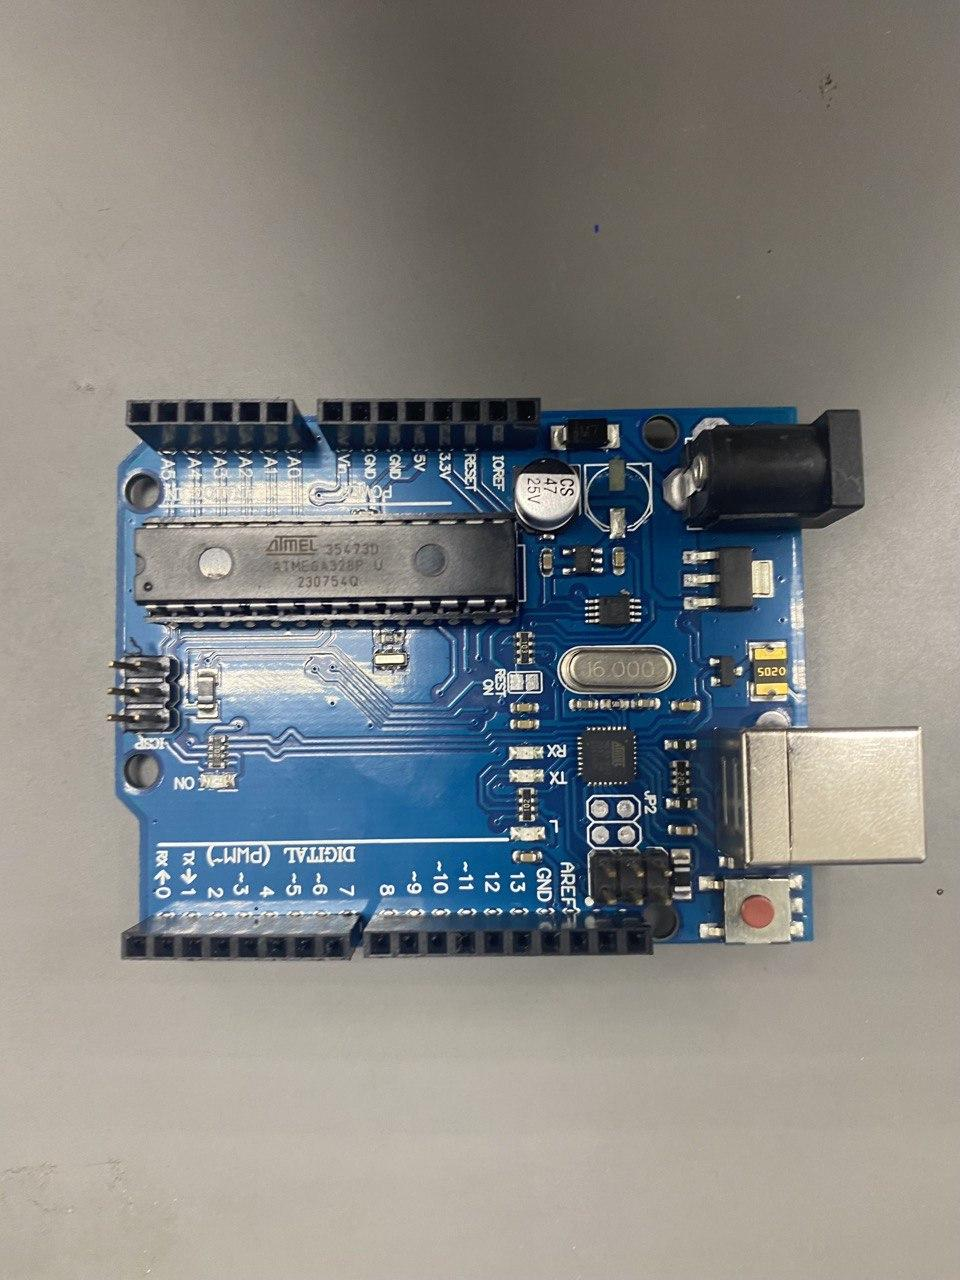ATmega328 chip: (133, 513, 517, 626)
Arduino board: (105, 397, 926, 962)
USB: (714, 725, 926, 869)
capacitor: (513, 457, 583, 532)
pins: (363, 911, 654, 958), (317, 396, 541, 452), (119, 914, 361, 961), (126, 397, 309, 451)
resistor: (670, 758, 690, 794), (516, 787, 536, 822), (208, 735, 227, 771), (516, 631, 534, 666)
